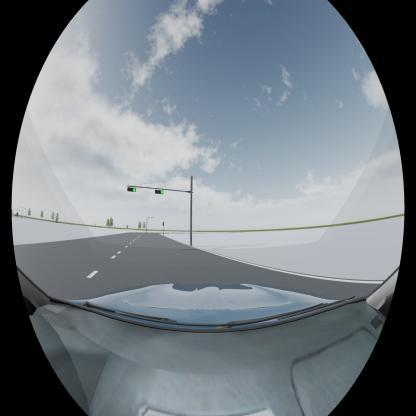Green Light: (154, 189, 165, 195), (126, 186, 136, 192)
